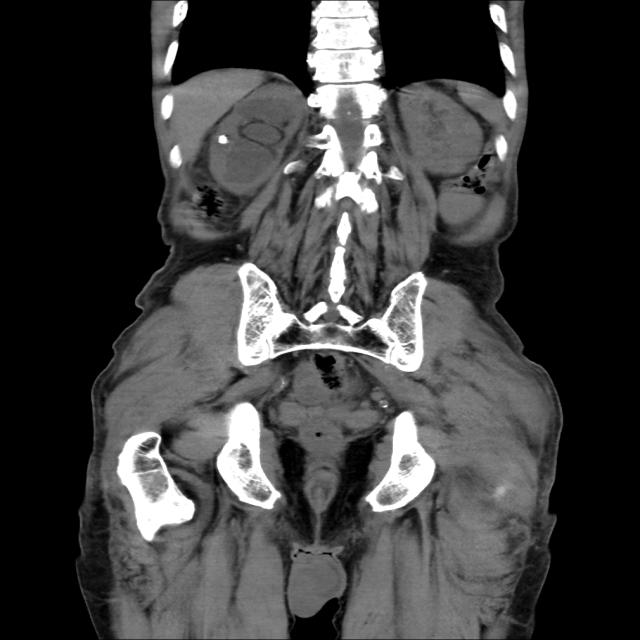kidneystone: (219, 135, 226, 141)
